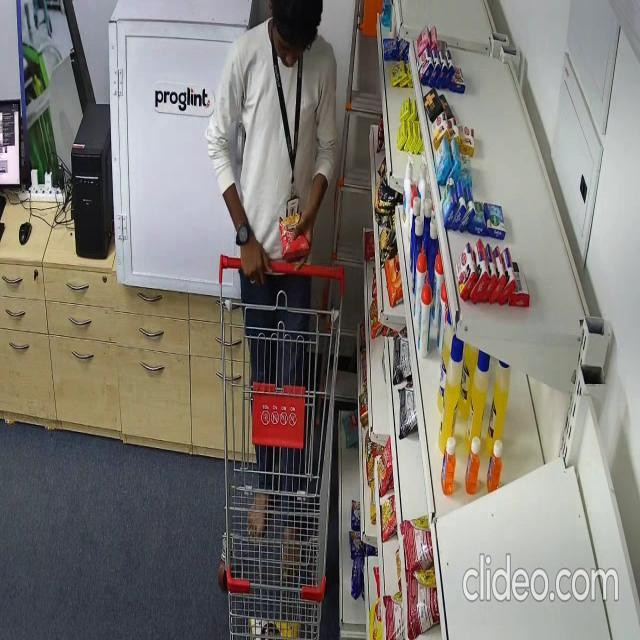normal: (206, 0, 338, 570)
